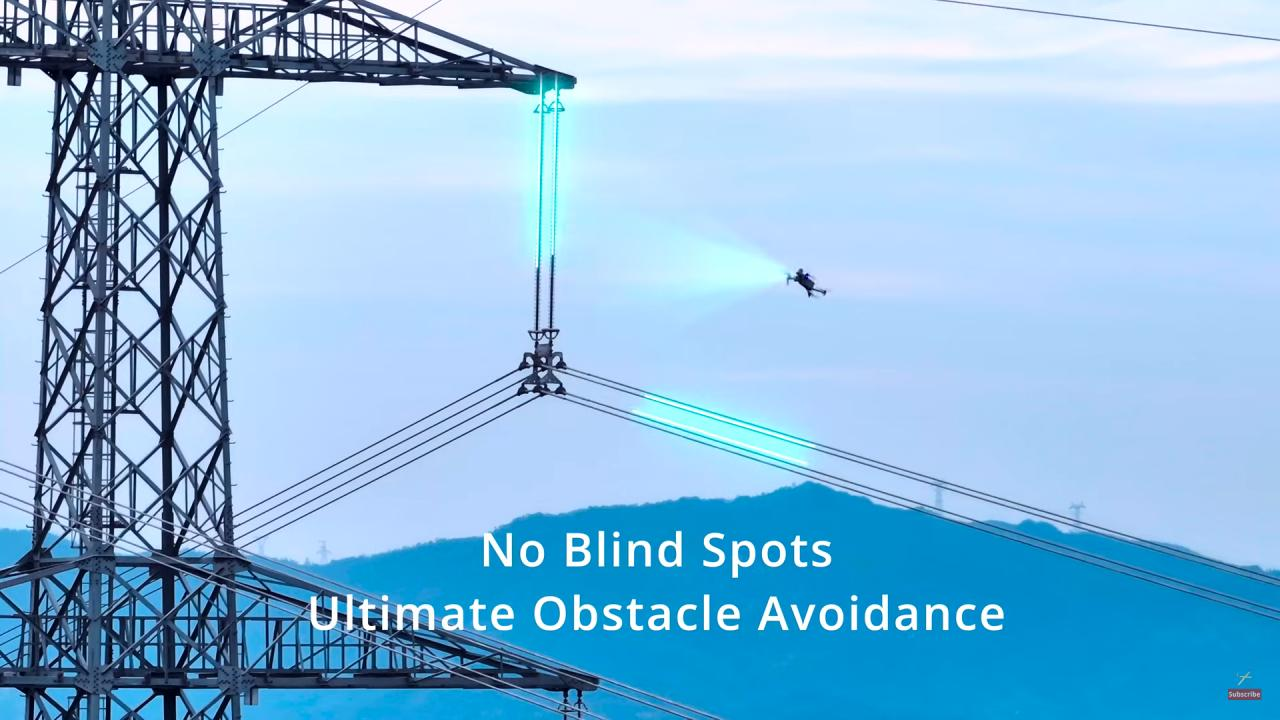Drone: (774, 258, 837, 308)
